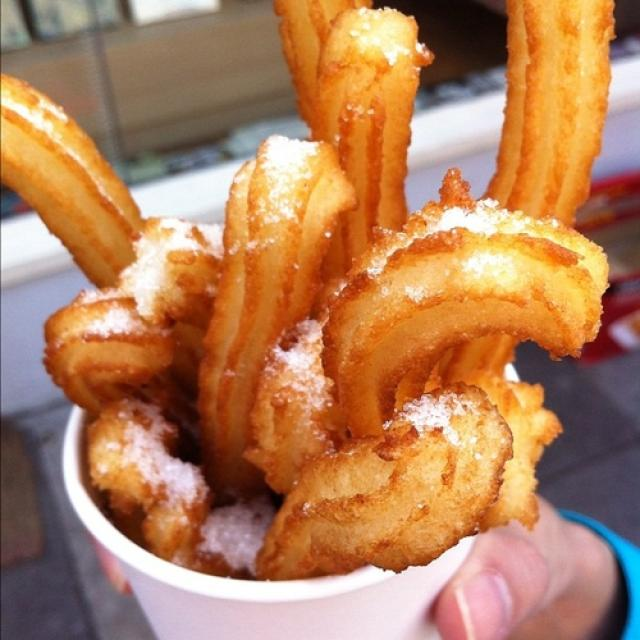炸货点心: (4, 37, 603, 604)
